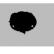correct: (7, 11, 43, 37)
